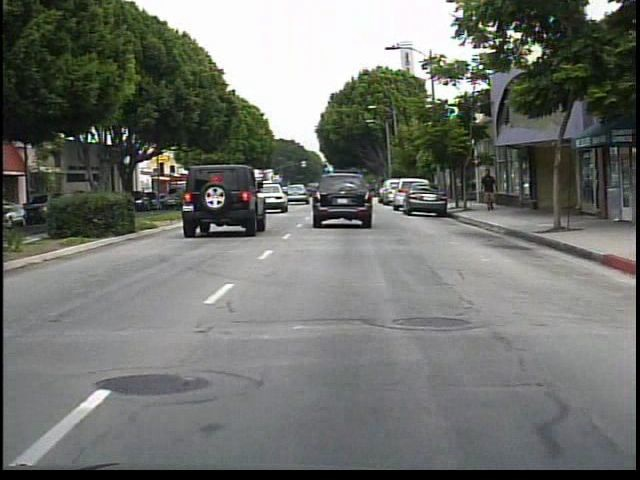person: (478, 166, 502, 214)
